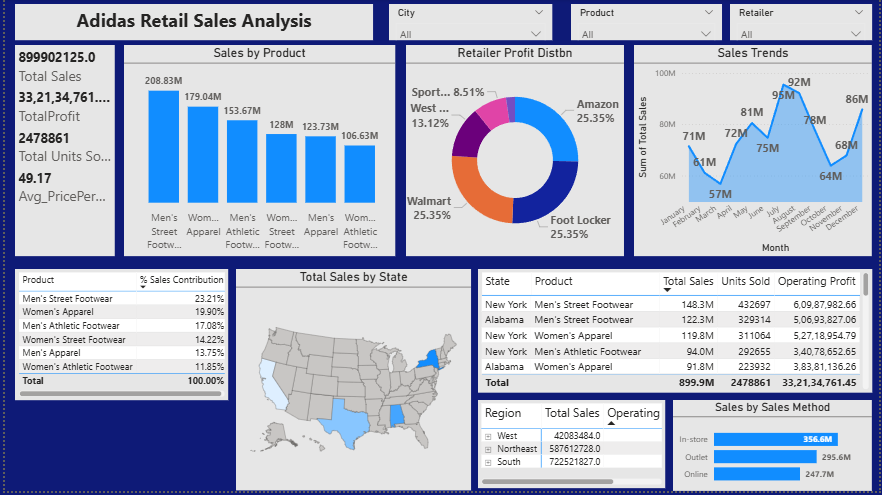

What the dashboard file says about the page in this screenshot:
{"tool":"powerbi","page":{"name":"Adidas Dashboard","canvas":[1280,720],"ordinal":0},"visuals":[{"type":"multiRowCard","title":"Business Performance","fields":{"Values":["Sum(Sales.Total Sales)","Sales.TotalProfit","Sum(Sales.Units Sold)","Retailer.Avg_PricePerUnit"]},"box":[14.6,67.3,146.3,308.8],"z":0},{"type":"clusteredColumnChart","title":"Sales by Product","fields":{"Category":["Products.Product"],"Y":["Retailer.Total_SaleAmt"]},"box":[174.1,67.3,396.6,308.8],"z":1000},{"type":"donutChart","title":" Retailer Profit Distbn","fields":{"Category":["Retailer.Retailer"],"Y":["Sales.TotalProfit"]},"box":[586.8,67.3,319,308.8],"z":2000},{"type":"areaChart","title":"Sales Trends","fields":{"Category":["Date.Invoice Date.Variation.Date Hierarchy.Year","Date.Invoice Date.Variation.Date Hierarchy.Quarter","Date.Invoice Date.Variation.Date Hierarchy.Month","Date.Invoice Date.Variation.Date Hierarchy.Day"],"Y":["Sum(Sales.Total Sales)"]},"box":[920.5,67.3,348.3,308.8],"z":3000},{"type":"tableEx","fields":{"Values":["Products.Product","Sum(Sales.Total Sales)"]},"box":[14.6,395.1,311.7,191.7],"z":4000},{"type":"clusteredBarChart","title":"Sales by Sales Method","fields":{"Category":["Sales.Sales Method"],"Y":["Sum(Sales.Total Sales)"]},"box":[977.1,587.1,291.4,132.9],"z":5000},{"type":"shapeMap","title":"Total Sales by State","fields":{"Category":["Retailer.State"],"Value":["Sum(Sales.Total Sales)"]},"box":[338.6,395.7,344.3,324.3],"z":6000},{"type":"pivotTable","fields":{"Rows":["Retailer.Region","Retailer.City"],"Values":["Sum(Sales.Total Sales)","Sum(Sales.Operating Margin)"]},"box":[692.2,586.8,273.7,128.8],"z":7000},{"type":"slicer","fields":{"Values":["Retailer.Retailer"]},"box":[1061,7.3,207.8,52.7],"z":8000},{"type":"slicer","fields":{"Values":["Products.Product"]},"box":[828.3,7.3,221,52.7],"z":9000},{"type":"textbox","box":[14.6,7.3,523.9,52.7],"z":10000},{"type":"slicer","fields":{"Values":["Retailer.City"]},"box":[562,7.3,238.5,52.7],"z":11000},{"type":"tableEx","fields":{"Values":["Retailer.State","Retailer.Total_SaleAmt","Date.All_Sales","Date.% Sales Share"]},"box":[695.7,395.7,572.9,174.3],"z":12000}]}

Visuals, with their boxes in screenshot pixels (x1, y1, x2, y2), scaled from the page's 1280x720 canvas onto the 882x495 screenshot:
"Business Performance" multiRowCard: rect(10, 46, 111, 259)
"Sales by Product" clusteredColumnChart: rect(120, 46, 393, 259)
" Retailer Profit Distbn" donutChart: rect(404, 46, 624, 259)
"Sales Trends" areaChart: rect(634, 46, 874, 259)
tableEx - Products.Product x Sum(Sales.Total Sales): rect(10, 272, 225, 403)
"Sales by Sales Method" clusteredBarChart: rect(673, 404, 874, 494)
"Total Sales by State" shapeMap: rect(233, 272, 471, 494)
pivotTable - Retailer.Region x Retailer.City: rect(477, 403, 666, 492)
slicer - Retailer.Retailer: rect(731, 5, 874, 41)
slicer - Products.Product: rect(571, 5, 723, 41)
textbox: rect(10, 5, 371, 41)
slicer - Retailer.City: rect(387, 5, 552, 41)
tableEx - Retailer.State x Retailer.Total_SaleAmt: rect(479, 272, 874, 392)
